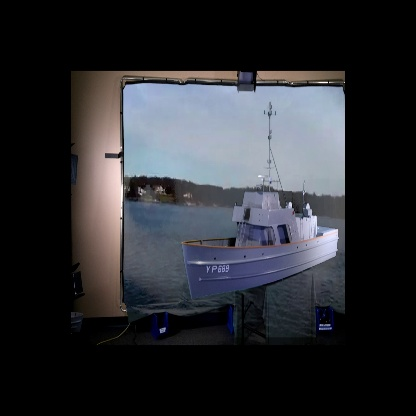YP689: (180, 104, 340, 302)
